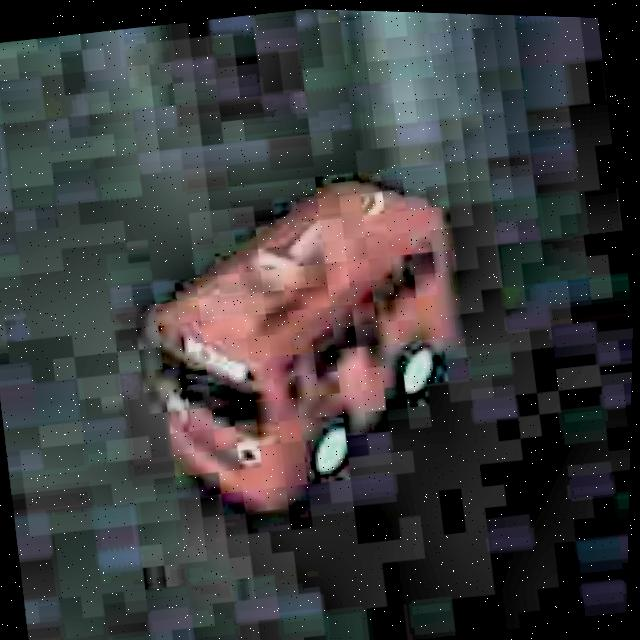bus: (116, 153, 492, 544)
